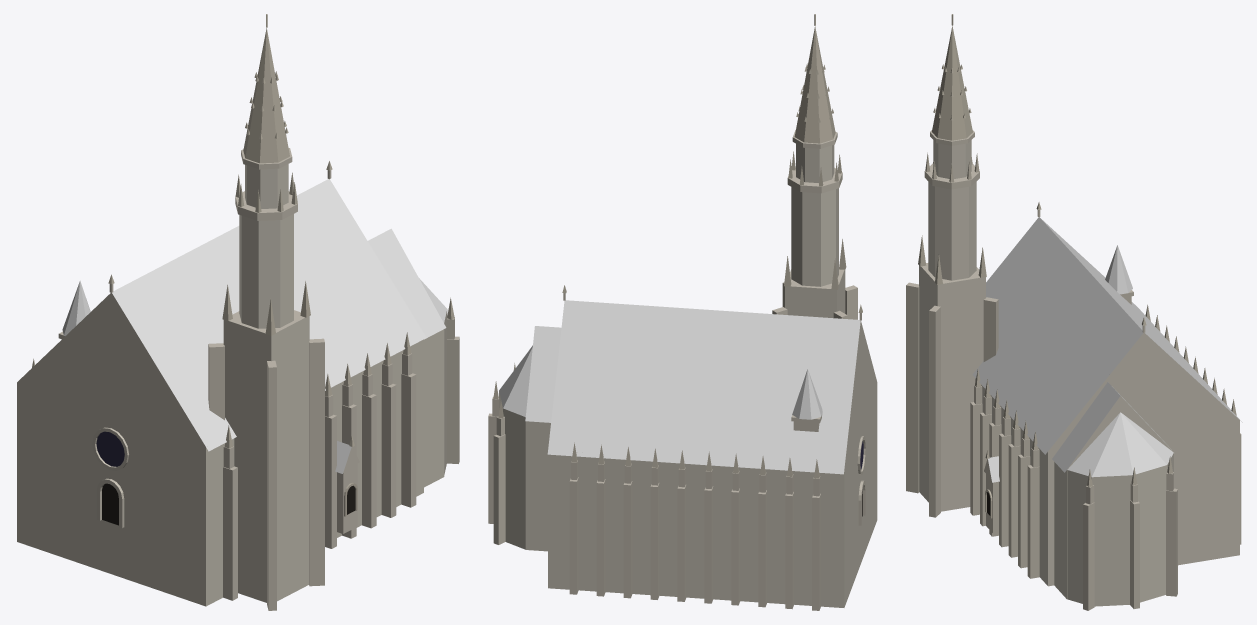
The model's file is matthias.glb.
The picture shows the model from 3 angles, left to right: view 1: azimuth 30°, elevation 25°; view 2: azimuth 150°, elevation 25°; view 3: azimuth 270°, elevation 25°; orthographic projection. The views are drawn at different scales.
Parts seen in each view (by area): view 1: matthias; view 2: matthias; view 3: matthias.
Part boxes in pixels (box(x1,y1,x2,y2)): matthias: box(17, 14, 459, 610); matthias: box(488, 14, 877, 610); matthias: box(906, 14, 1242, 610).
Bounding box in the file's own units: 67.58 × 88.75 × 56.
